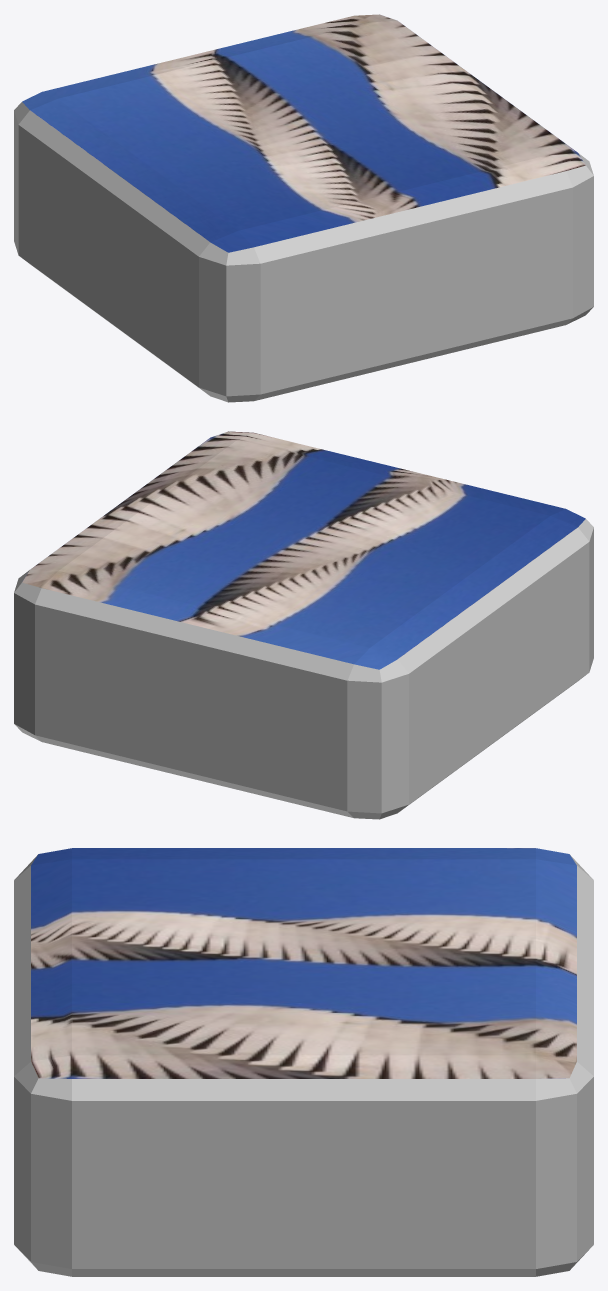
The model's file is peça6.obj.
The picture shows the model from 3 angles, top to bottom: view 1: azimuth 30°, elevation 25°; view 2: azimuth 150°, elevation 25°; view 3: azimuth 270°, elevation 25°; orthographic projection. The views are drawn at different scales.
Parts seen in each view (by area): view 1: Cubo.006; view 2: Cubo.006; view 3: Cubo.006.
Boxes of the visible parts, bbox=[...] form: Cubo.006: bbox=[14, 14, 593, 402]; Cubo.006: bbox=[14, 431, 593, 819]; Cubo.006: bbox=[14, 848, 593, 1276].
Size of the model in its own units: 0.5 by 0.2 by 0.5.
